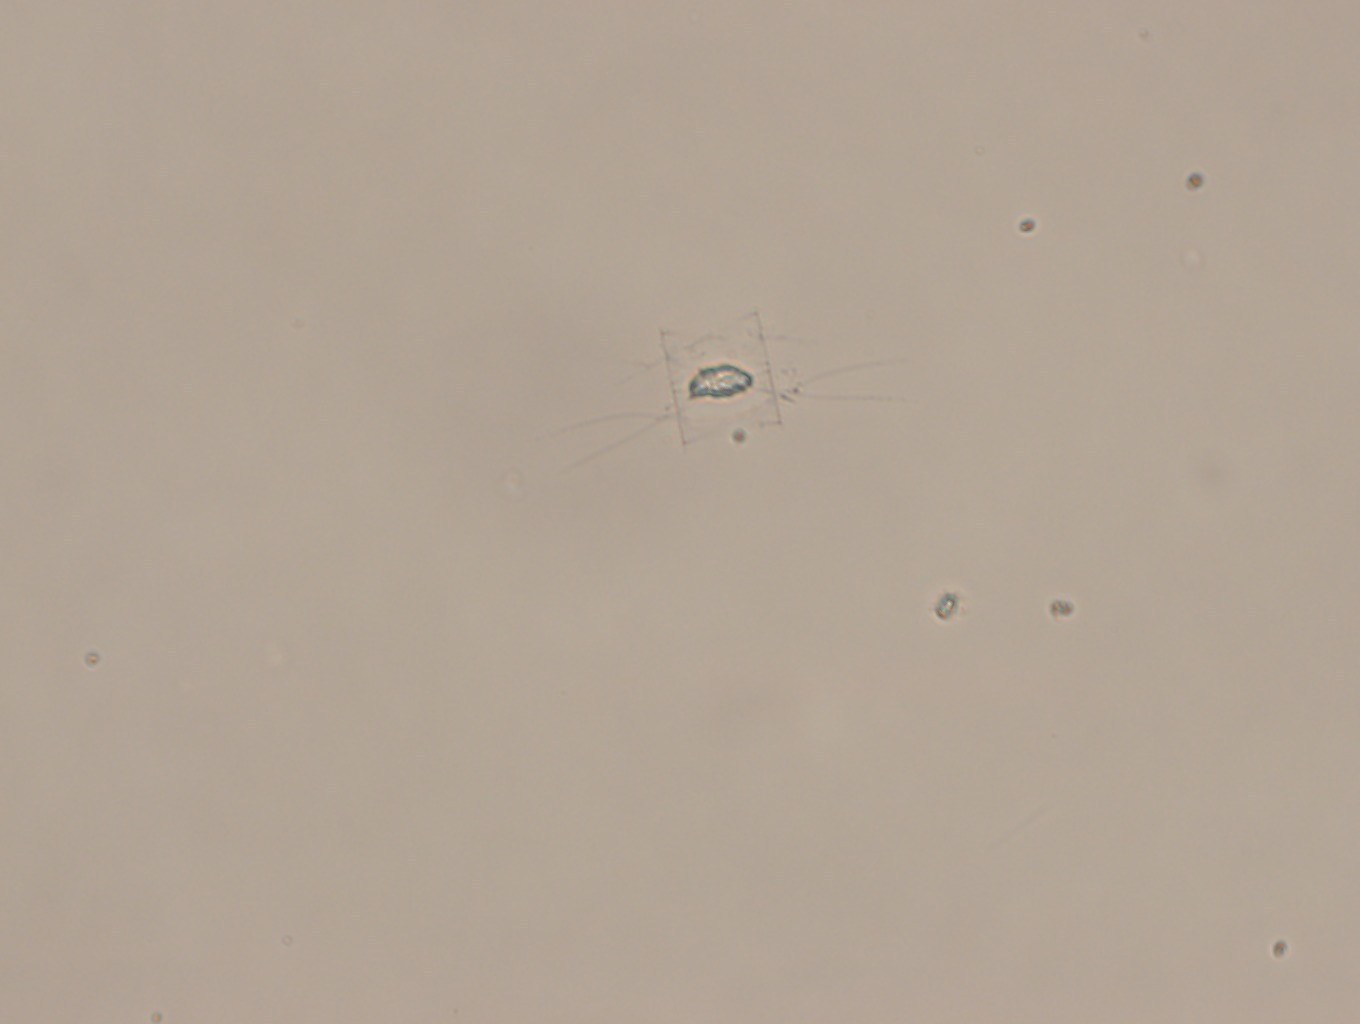chaetoceros: (531, 300, 911, 478)
